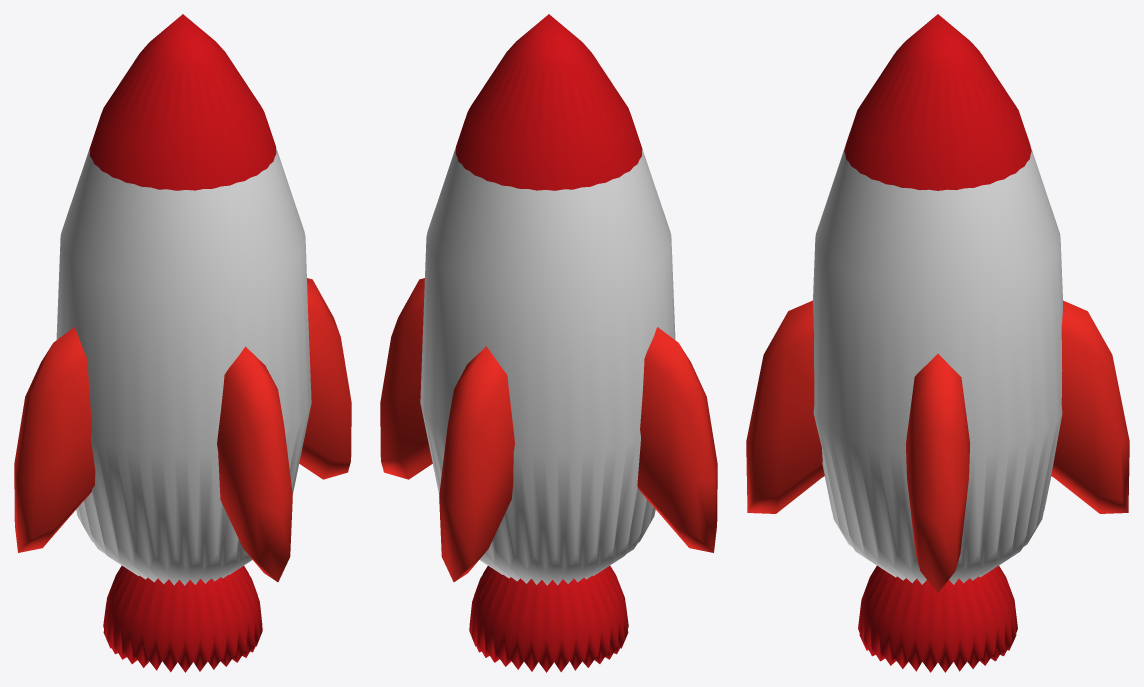
The model's file is Rocket.fbx.
The picture shows the model from 3 angles, left to right: view 1: azimuth 30°, elevation 25°; view 2: azimuth 150°, elevation 25°; view 3: azimuth 270°, elevation 25°; orthographic projection.
Parts seen in each view (by area): view 1: Cylinder, Cube.001, Cube, Cube.003; view 2: Cylinder, Cube.001, Cube.002, Cube.003; view 3: Cylinder, Cube, Cube.003, Cube.002.
Part boxes in pixels (left/top/right/bottom): Cylinder: left=56, top=14, right=311, bottom=672; Cube.001: left=14, top=327, right=95, bottom=552; Cube: left=217, top=346, right=292, bottom=581; Cube.003: left=299, top=278, right=351, bottom=479; Cylinder: left=420, top=14, right=675, bottom=672; Cube.001: left=637, top=327, right=717, bottom=552; Cube.002: left=439, top=346, right=514, bottom=581; Cube.003: left=380, top=278, right=432, bottom=479; Cylinder: left=813, top=14, right=1062, bottom=672; Cube: left=746, top=300, right=824, bottom=513; Cube.003: left=906, top=353, right=969, bottom=592; Cube.002: left=1051, top=300, right=1129, bottom=513.
Size of the model in its own units: 246 by 444 by 246.
